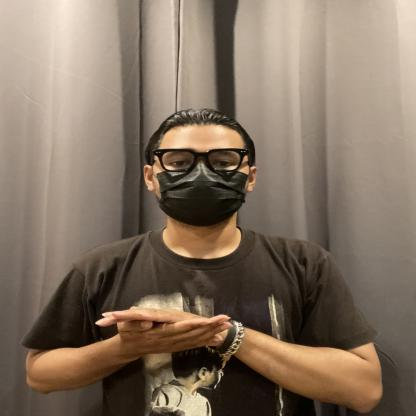Love: (80, 286, 297, 371)
